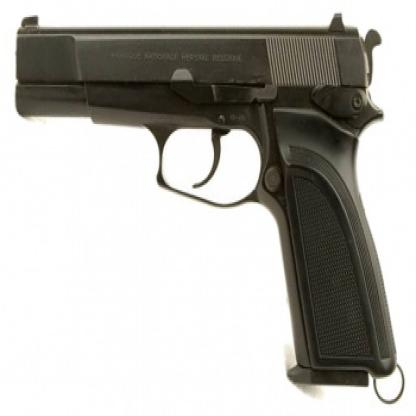Guns: (12, 7, 415, 414)
